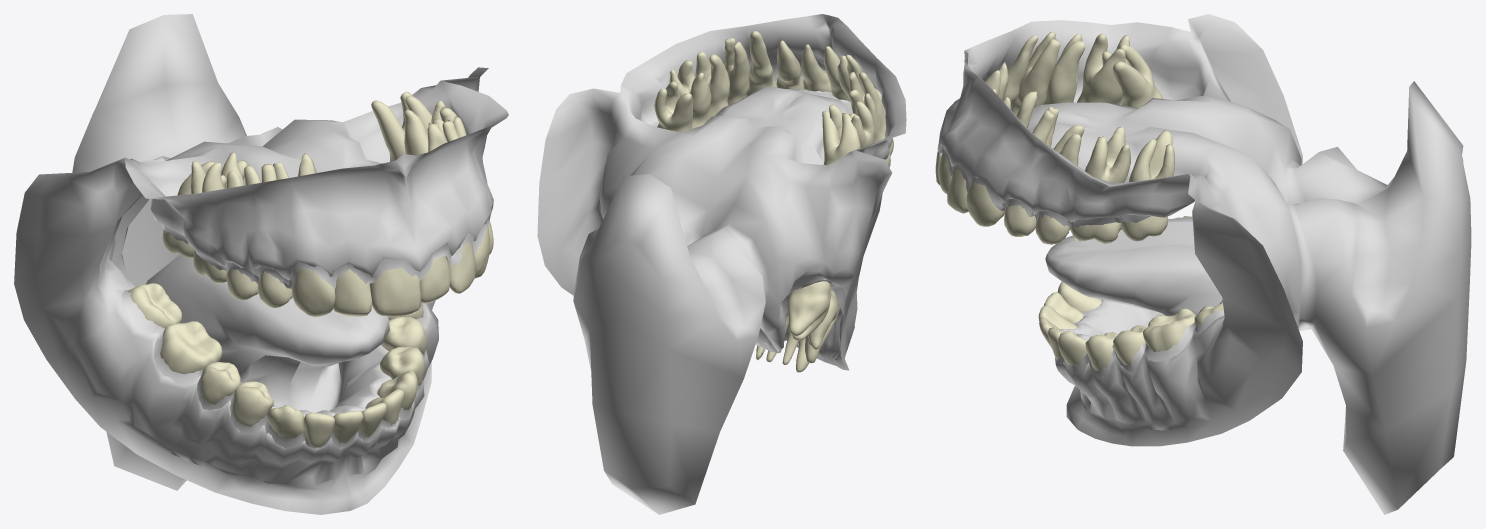
Rendered from ToothSegmentationEdit.fbx.
3 views of the same model, side by side, from view 1: azimuth 30°, elevation 25°; view 2: azimuth 150°, elevation 25°; view 3: azimuth 270°, elevation 25° (orthographic). The views are drawn at different scales.
Parts seen in each view (by area): view 1: mouth, wet, teeth.016, teeth.001, teeth.010, teeth.013, teeth.008, teeth.015, teeth.009, teeth.018, teeth.017, teeth.011 (+14 smaller); view 2: mouth, teeth.015, teeth.008, teeth.007, teeth.014, teeth.006, teeth.005, teeth.004, teeth.013, teeth.003, teeth.002, teeth.011 (+3 smaller); view 3: mouth, wet, teeth.007, teeth.008, teeth.013, teeth.014, teeth.011, teeth.012, teeth.004, teeth.006, teeth.027, teeth.005 (+6 smaller).
Boxes of the visible parts, bbox=[...] form: mouth: bbox=[14, 14, 508, 514]; wet: bbox=[120, 216, 489, 448]; teeth.016: bbox=[160, 321, 222, 374]; teeth.001: bbox=[369, 268, 421, 316]; teeth.010: bbox=[292, 153, 335, 317]; teeth.013: bbox=[191, 152, 243, 283]; teeth.008: bbox=[371, 91, 432, 161]; teeth.015: bbox=[128, 283, 181, 328]; teeth.009: bbox=[333, 269, 371, 316]; teeth.018: bbox=[232, 381, 273, 426]; teeth.017: bbox=[200, 362, 240, 404]; teeth.011: bbox=[257, 162, 292, 307]; mouth: bbox=[537, 14, 906, 514]; teeth.015: bbox=[787, 281, 831, 340]; teeth.008: bbox=[654, 81, 692, 132]; teeth.007: bbox=[669, 60, 711, 128]; teeth.014: bbox=[822, 110, 860, 165]; teeth.006: bbox=[695, 52, 729, 116]; teeth.005: bbox=[724, 38, 749, 105]; teeth.004: bbox=[746, 31, 777, 95]; teeth.013: bbox=[829, 101, 874, 147]; teeth.003: bbox=[776, 40, 803, 89]; teeth.002: bbox=[801, 44, 831, 92]; teeth.011: bbox=[849, 72, 893, 155]; mouth: bbox=[937, 14, 1471, 514]; wet: bbox=[938, 91, 1224, 377]; teeth.007: bbox=[1070, 126, 1130, 243]; teeth.008: bbox=[1121, 130, 1174, 241]; teeth.013: bbox=[1077, 33, 1129, 104]; teeth.014: bbox=[1102, 44, 1163, 108]; teeth.011: bbox=[1011, 32, 1060, 115]; teeth.012: bbox=[1044, 34, 1085, 104]; teeth.004: bbox=[966, 91, 1037, 226]; teeth.006: bbox=[1035, 125, 1084, 244]; teeth.027: bbox=[1143, 308, 1196, 351]; teeth.005: bbox=[1004, 106, 1058, 236].
Bounding box in the file's own units: 10.47 × 11.46 × 12.06.
